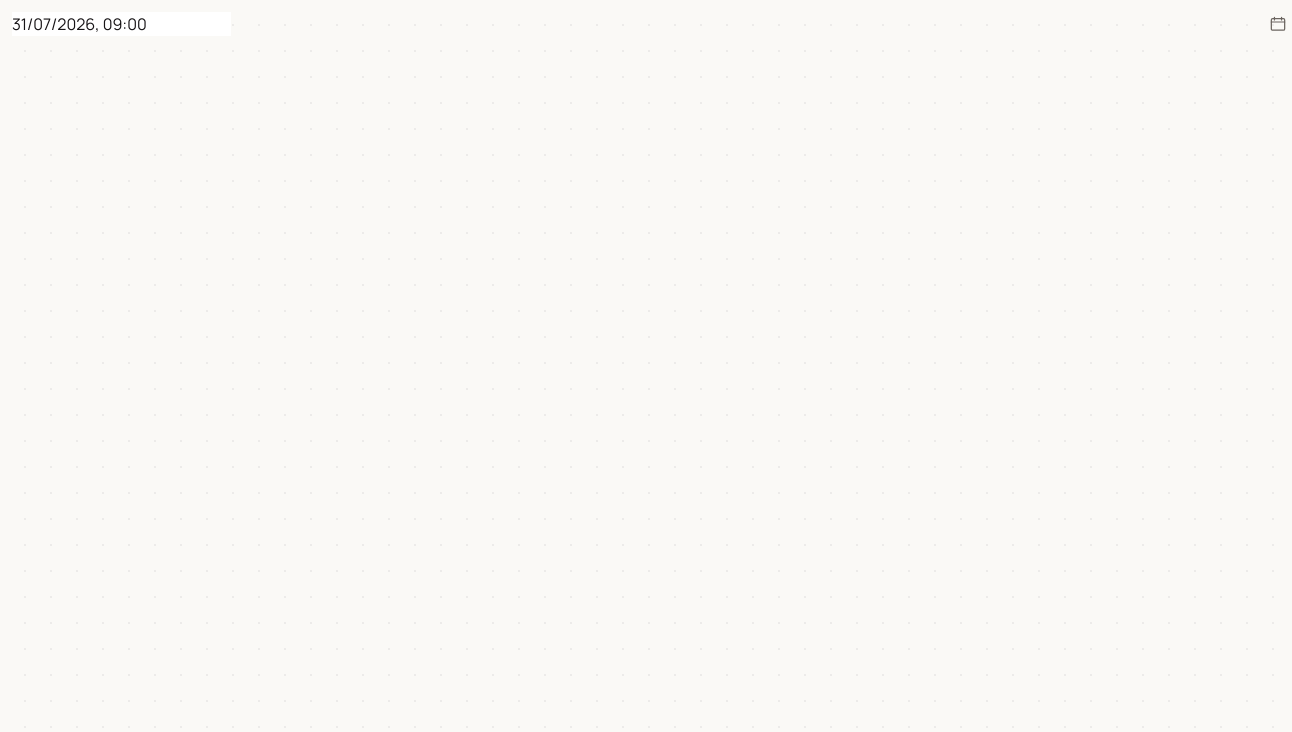
it: DateTimeInput › reverts an incomplete datetime back to the last saved value on blur
This screenshot has width=1292, height=732.
Step 1. Replace the text in the field named "Event start" with "081220261" → coordinates (122, 24), box [12, 12, 231, 36]
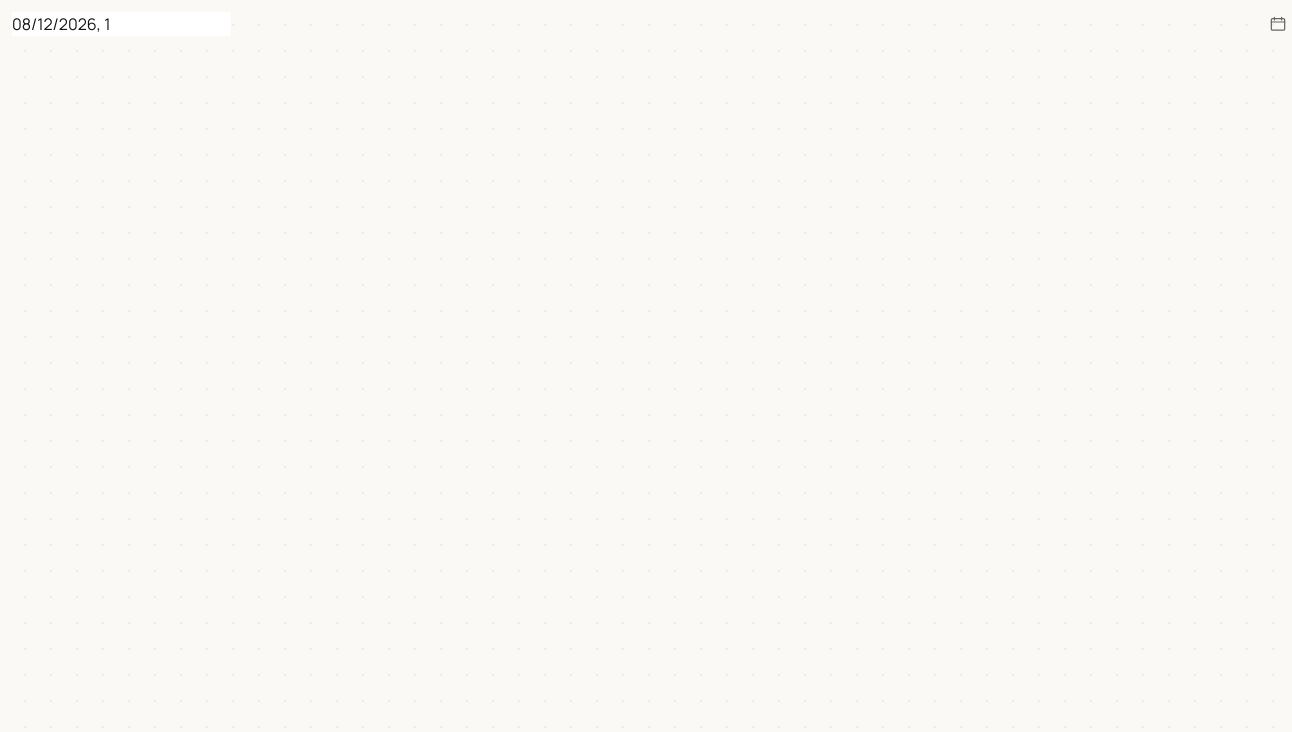
Step 2. Leave the field named "Event start", box [12, 12, 231, 36]
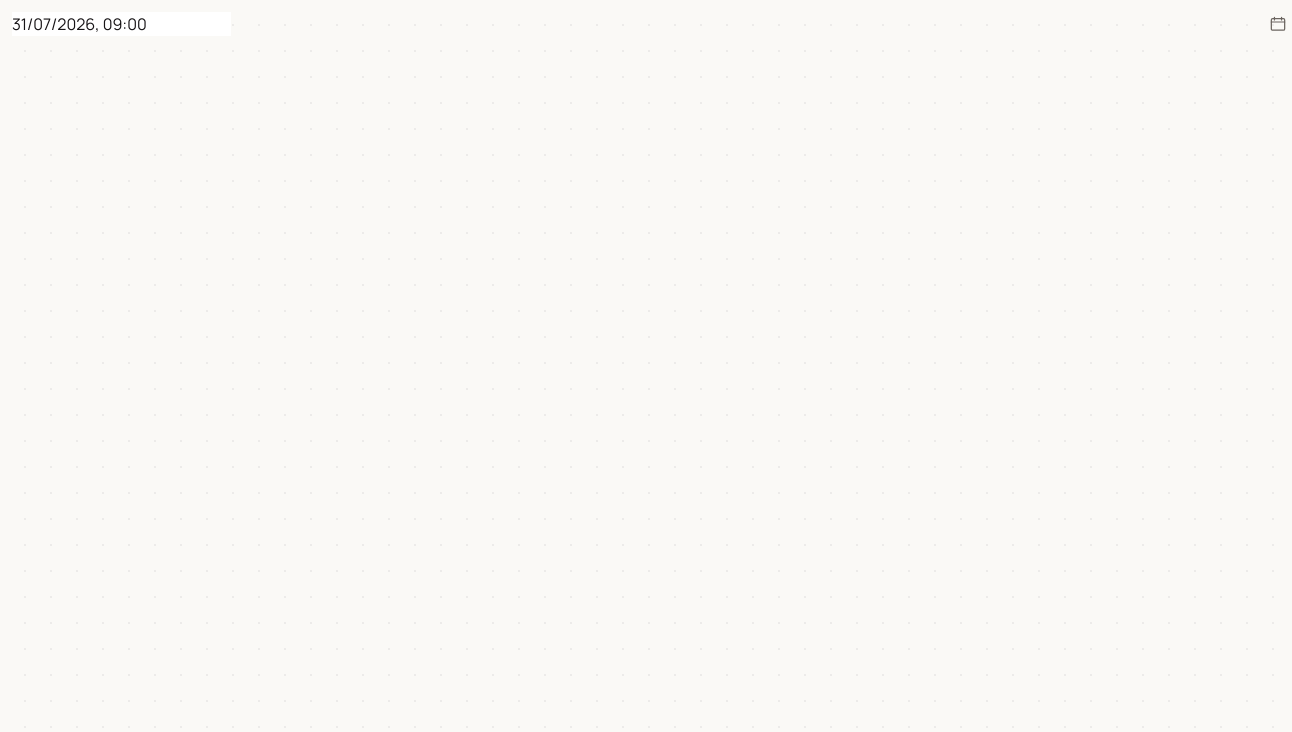
Check: the field named "Event start" holds "31/07/2026, 09:00", box [12, 12, 231, 36]
